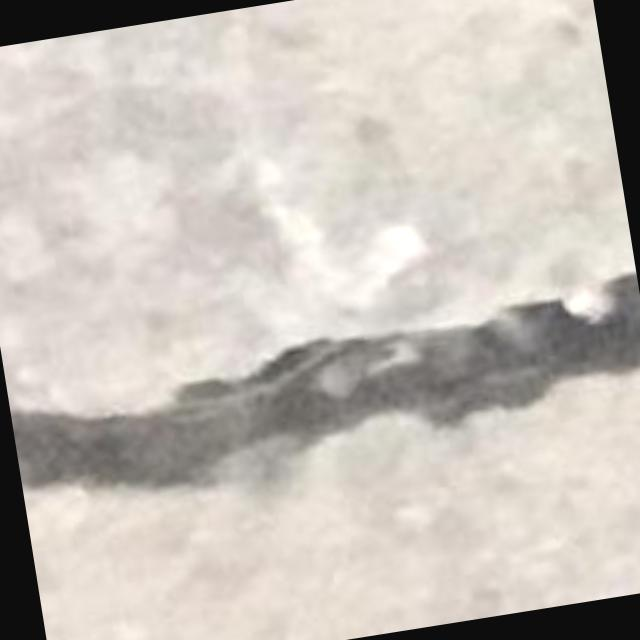crack: (11, 274, 639, 491)
